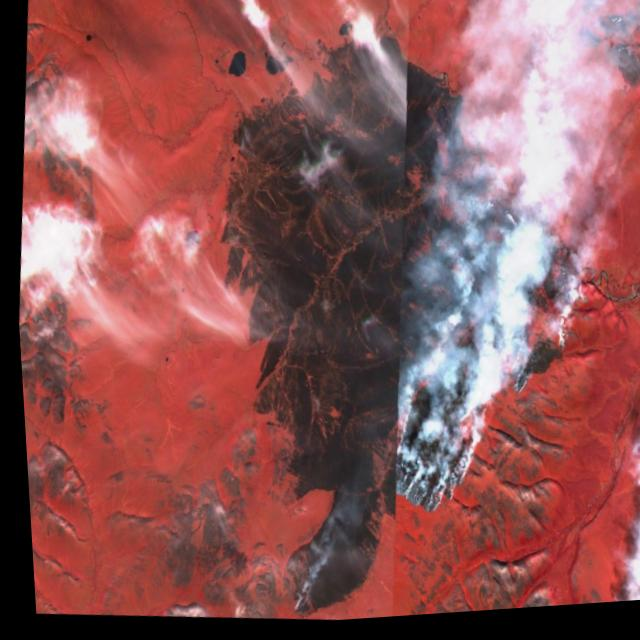fire: (375, 256, 589, 546)
